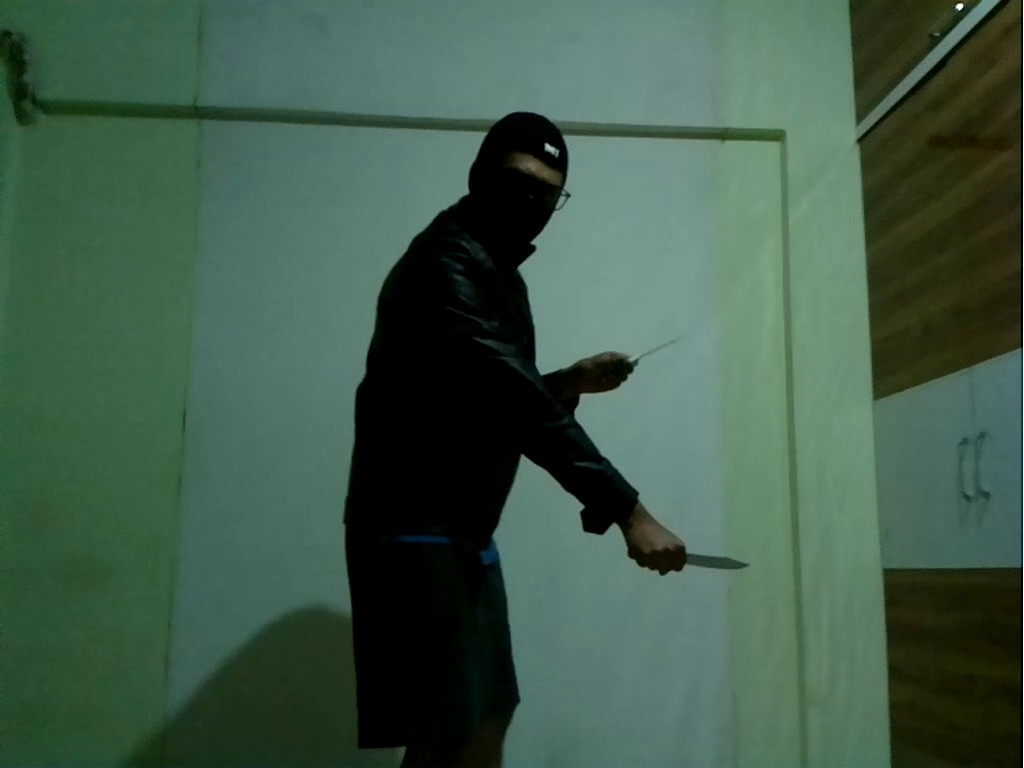knife: (675, 546, 756, 575)
